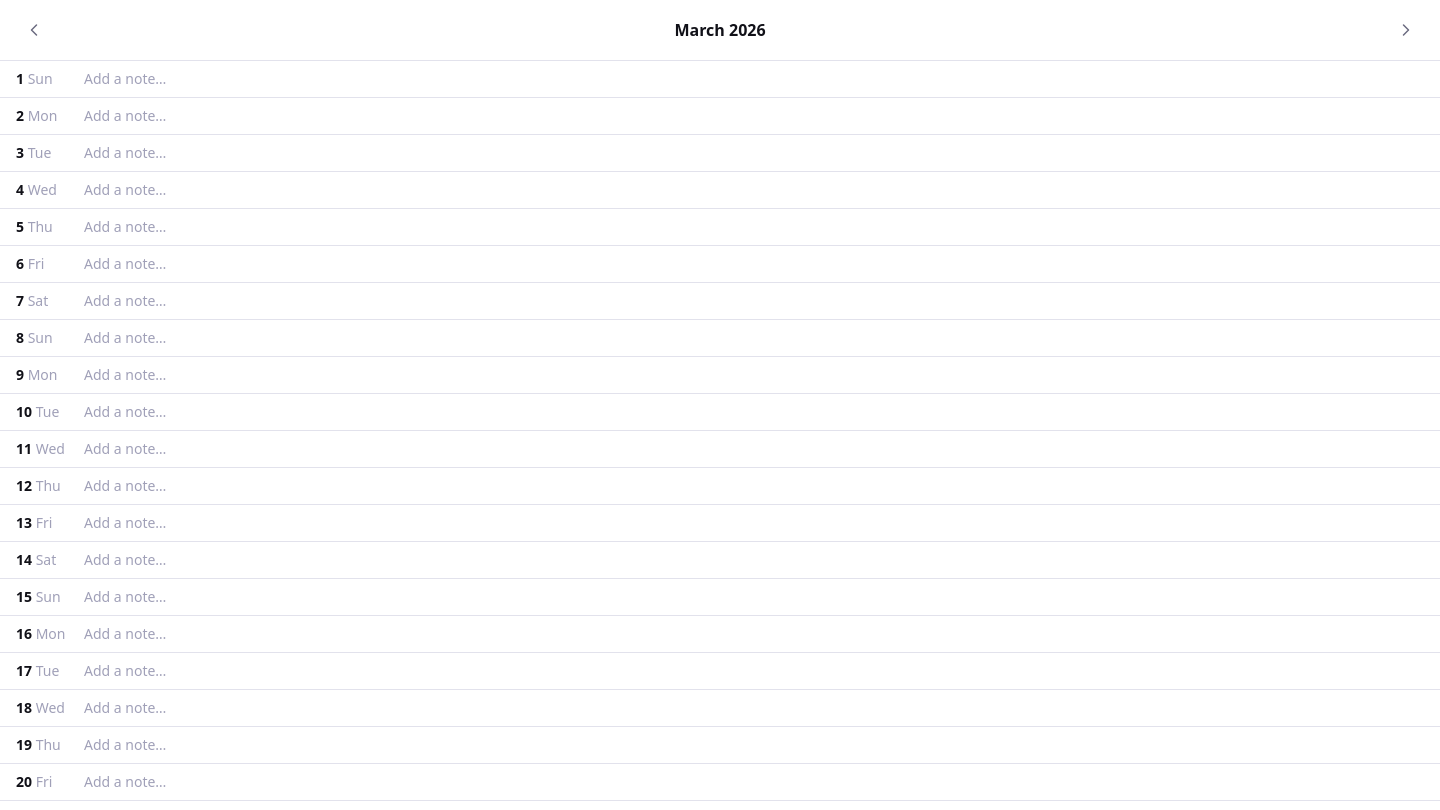
Test: TimelineView › navigates to previous month when previous button clicked
Click the button named "previous".
click(34, 30)  # box [16, 12, 52, 48]
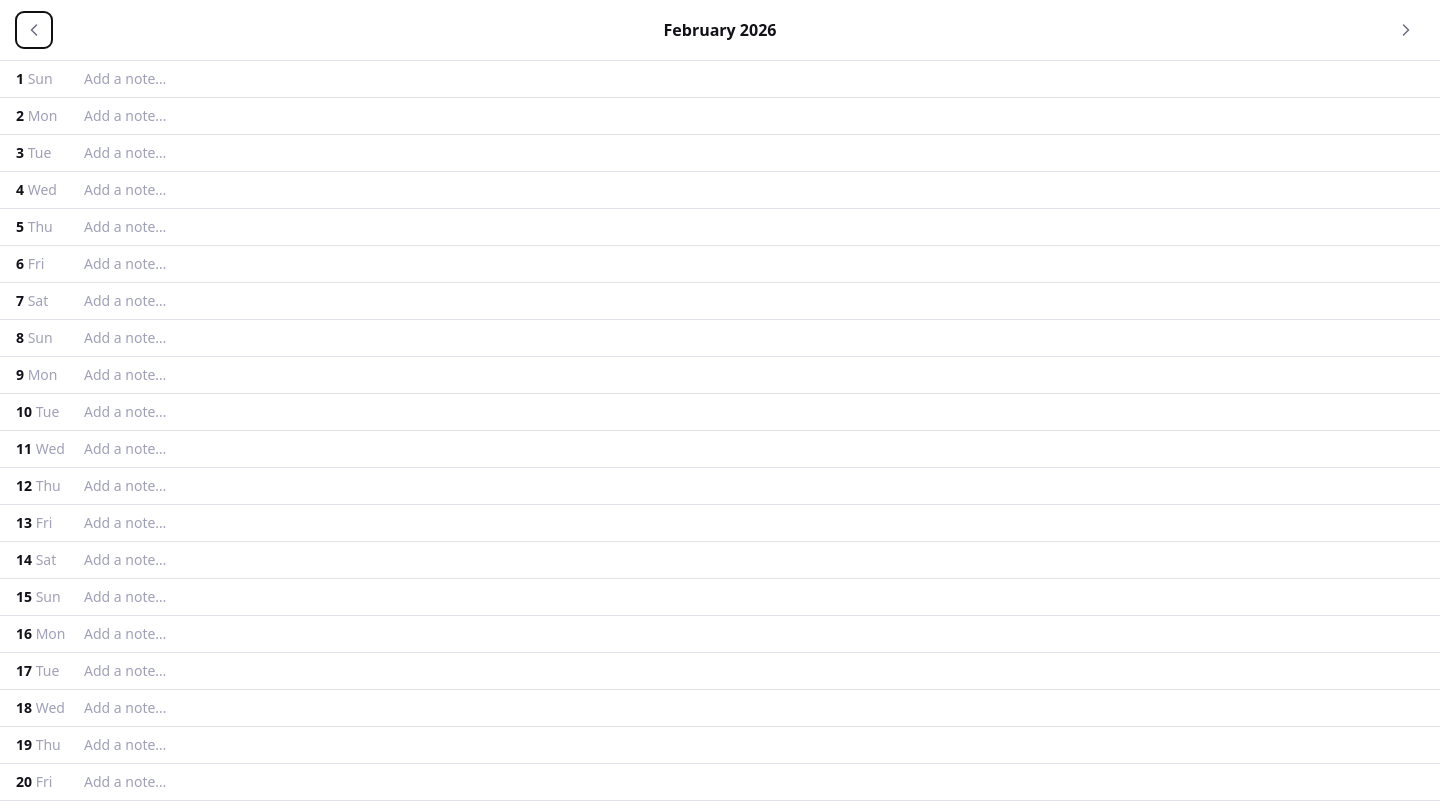
Now the text "February 2026" is shown, box [664, 18, 776, 42]
